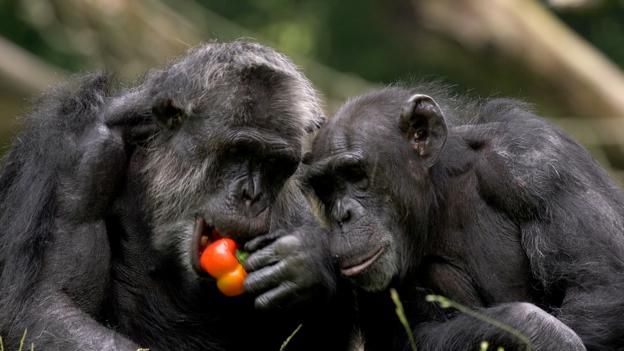Chimpanzee: (303, 90, 624, 351), (32, 55, 310, 343)
